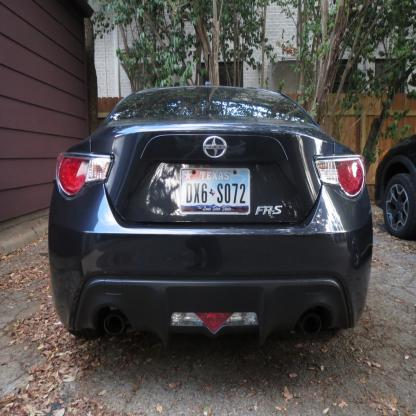Car: (47, 75, 367, 351), (375, 131, 416, 243)
